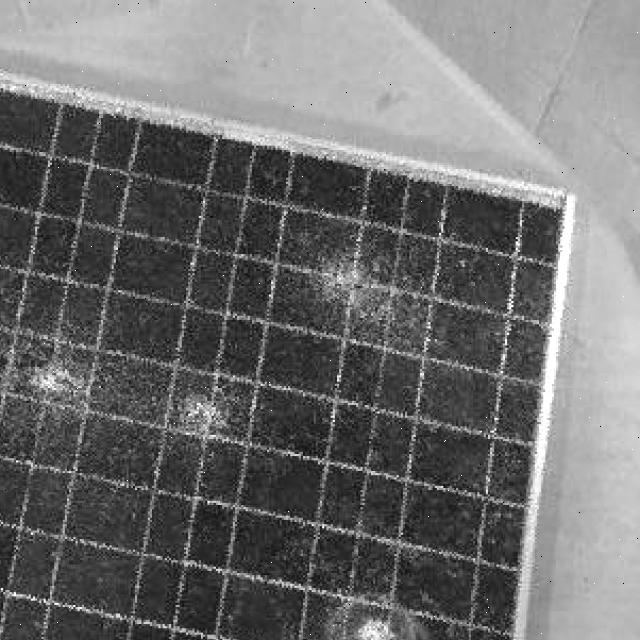Anomaly Solar Panel: (0, 74, 573, 640)
Structural Damage: (279, 220, 482, 368), (288, 537, 442, 640), (139, 363, 252, 481), (12, 316, 102, 445)
